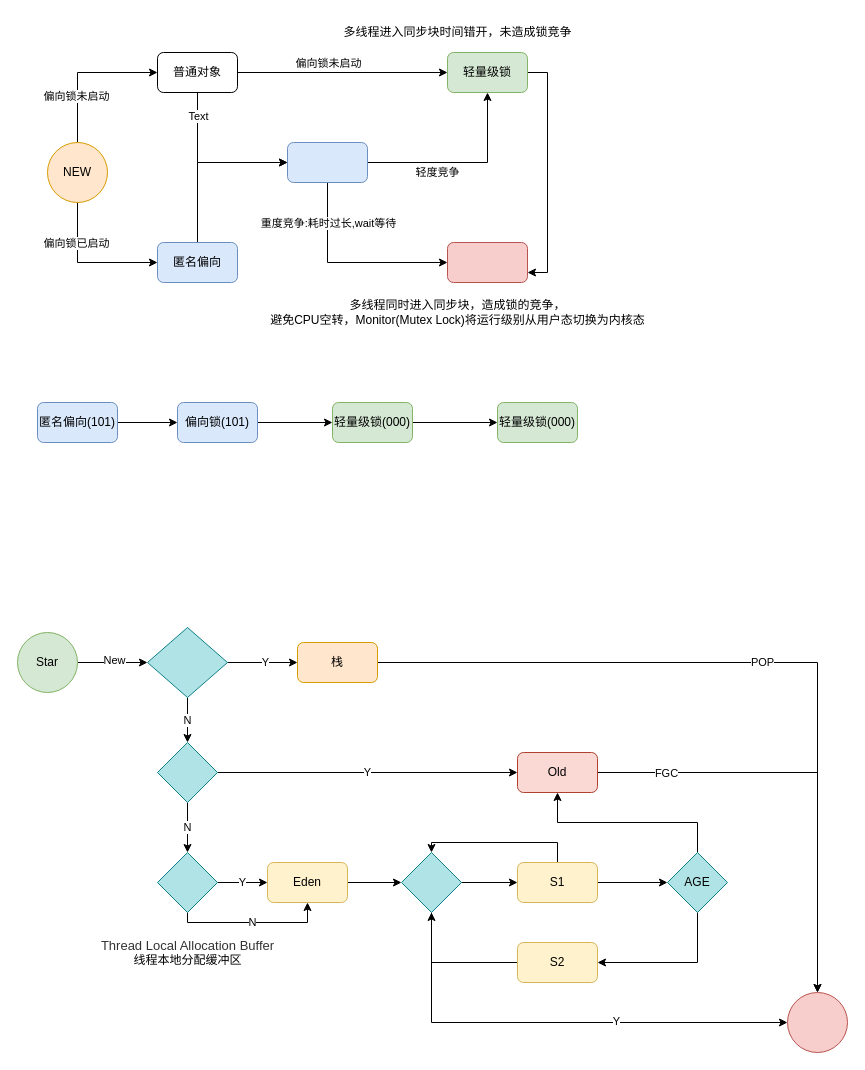
The diagram is 865 pixels wide and 1070 high, and some of its shapes have lost their labels. The box of each missing label's shape, as (x1, y1, x2, y2) in pixels:
END: (786, 992, 848, 1052)
GC?: (400, 852, 462, 912)
TLAB: (156, 852, 218, 912)
偏向锁: (286, 142, 368, 182)
对象大小: (156, 742, 218, 802)
是否栈存放: (146, 626, 228, 698)
重量级锁: (446, 242, 528, 282)
